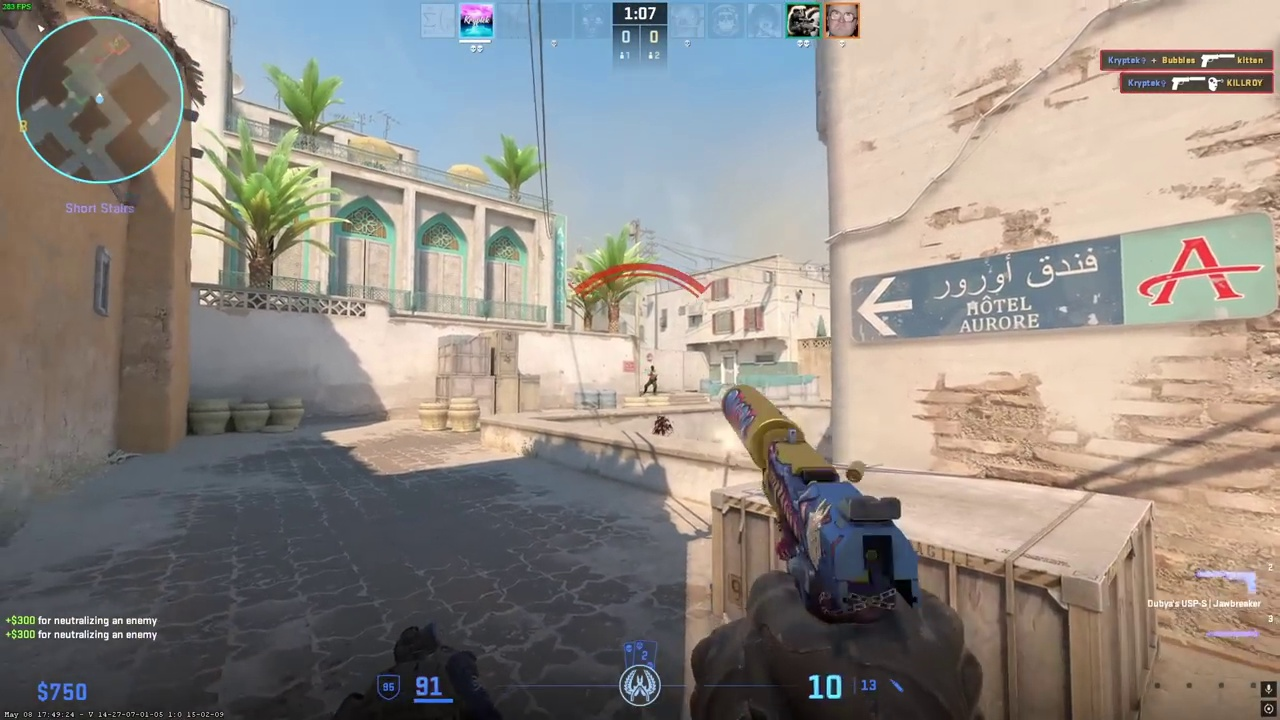Terrorist: (644, 365, 659, 395)
